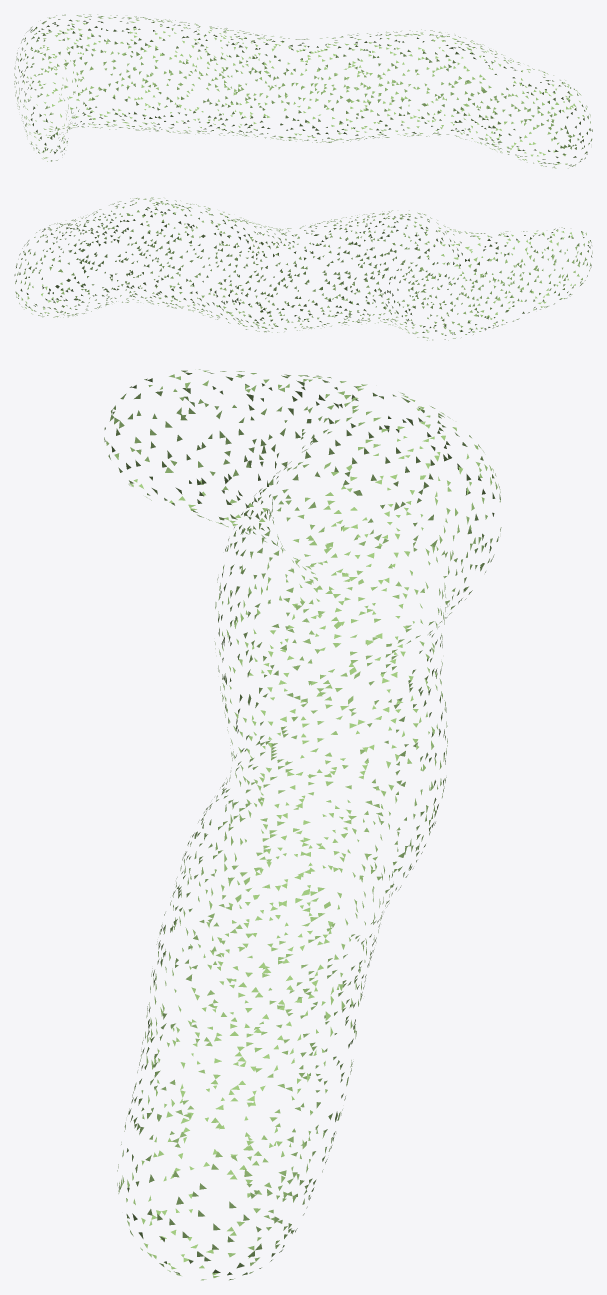
File: morph_013.glb
3 views of the same model, one above another, from view 1: azimuth 30°, elevation 25°; view 2: azimuth 150°, elevation 25°; view 3: azimuth 270°, elevation 25° (orthographic). The views are drawn at different scales.
Bounding box in the file's own units: 118 × 44.87 × 37.26.
